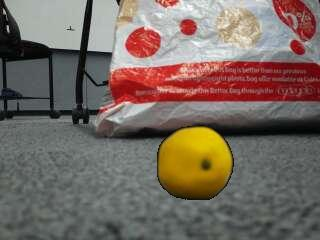lemon: (159, 128, 233, 201)
